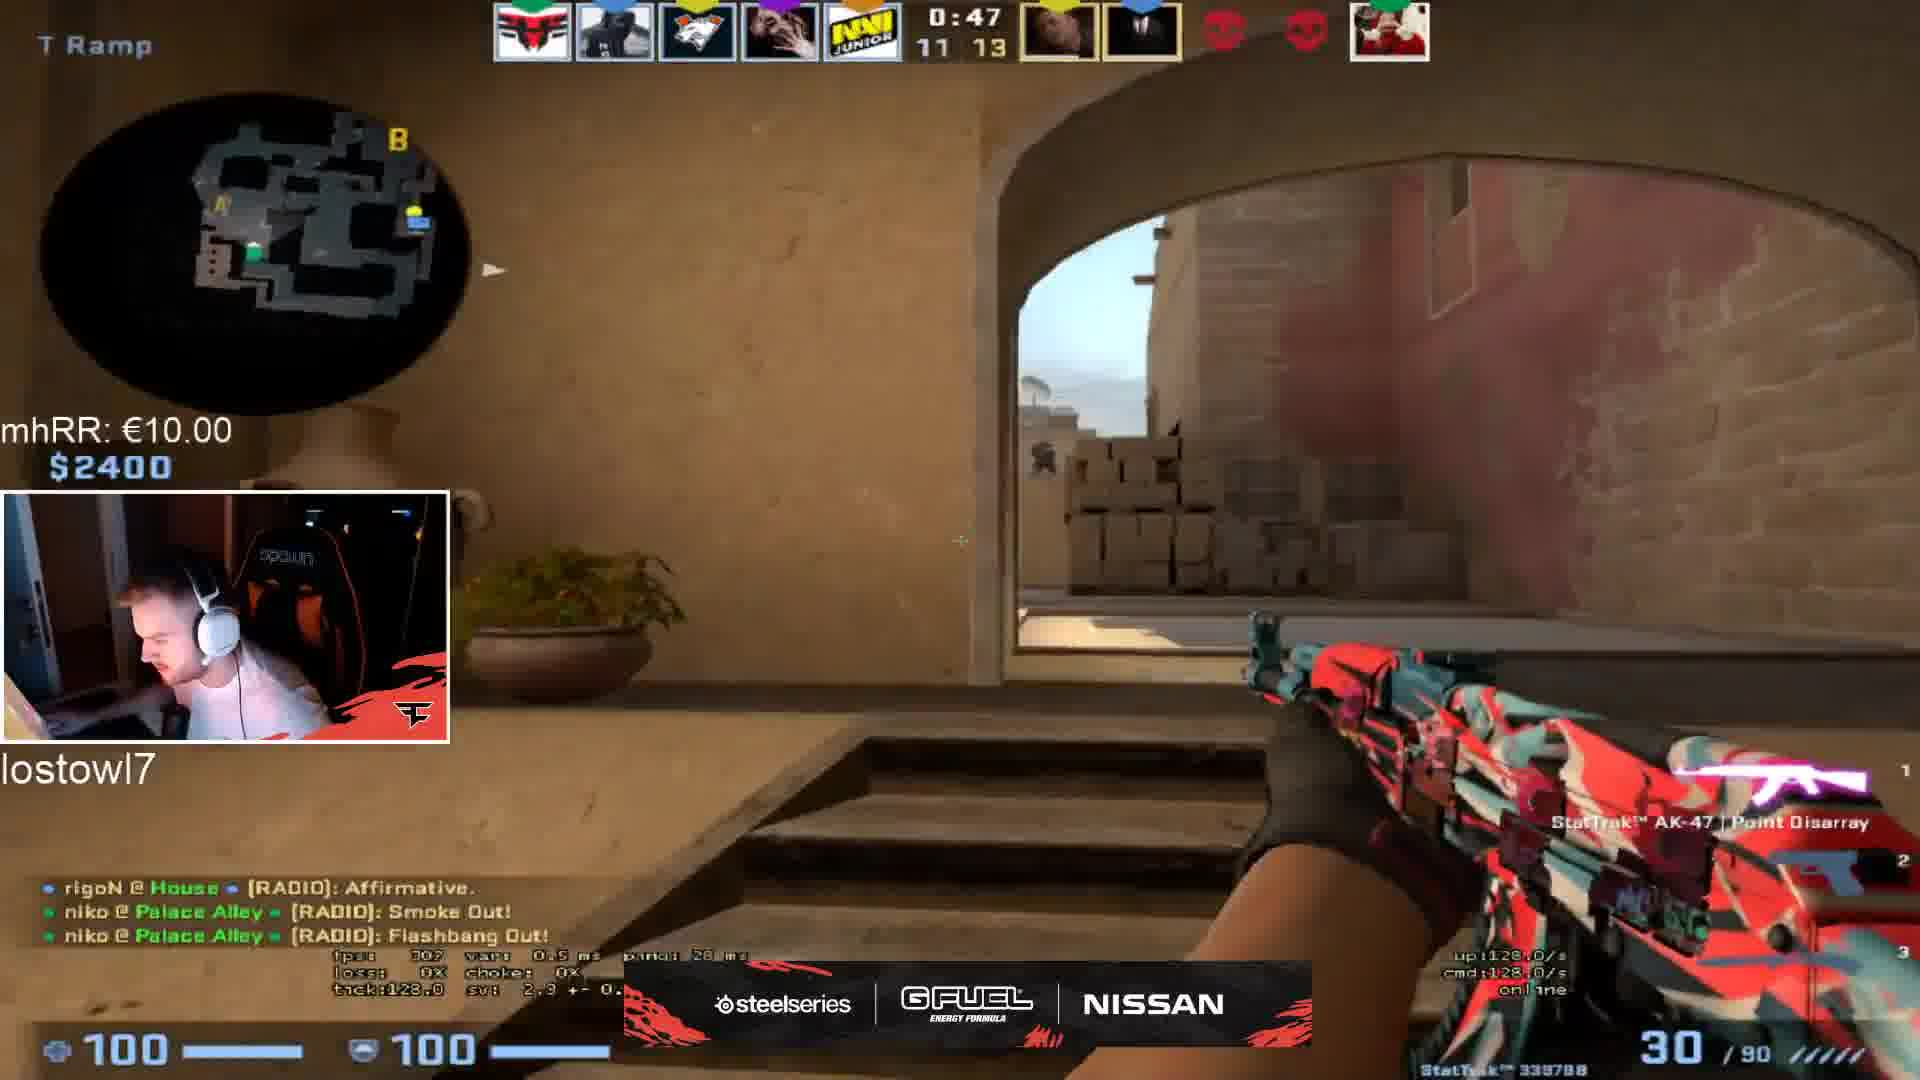enemy: (1031, 440, 1056, 479)
